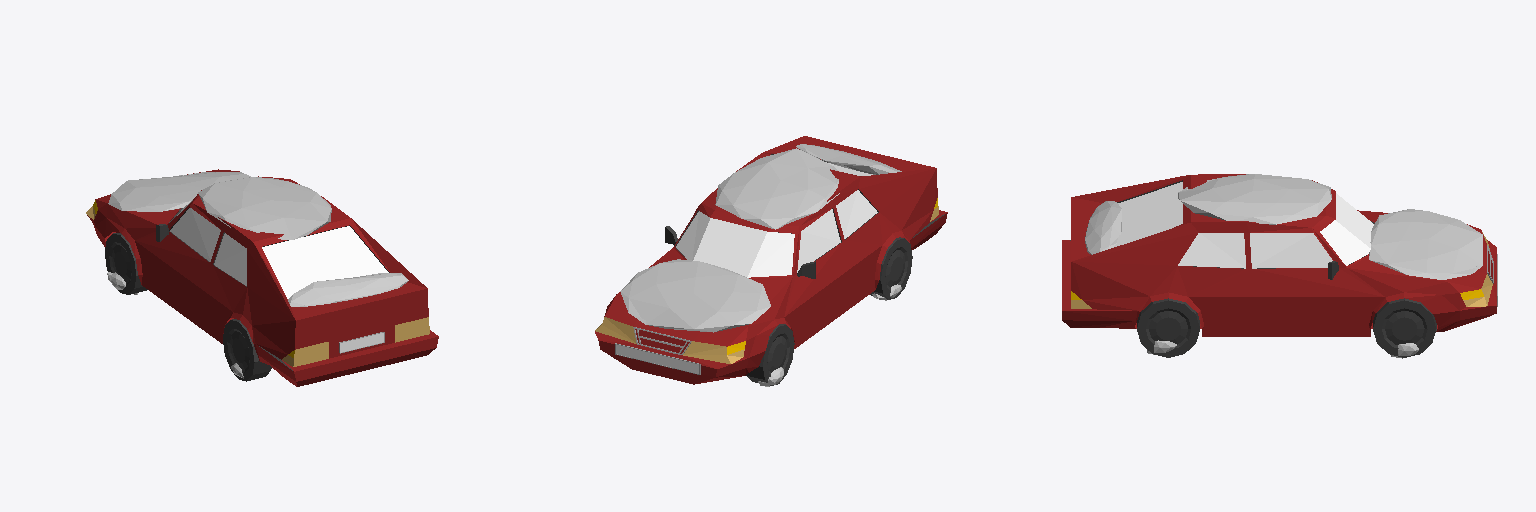
3 renders of one model, left to right at view 1: azimuth 30°, elevation 25°; view 2: azimuth 150°, elevation 25°; view 3: azimuth 270°, elevation 25°, orthographic.
Parts seen in each view (by area): view 1: Box012, Icosphere, Icosphere.001, Icosphere.002, Cylinder007, Cylinder008; view 2: Box012, Icosphere.001, Icosphere, Cylinder007, Cylinder008, Icosphere.002, Box015; view 3: Box012, Icosphere.001, Icosphere, Cylinder007, Cylinder008, Icosphere.002.
Boxes of the visible parts, x1,y1,x2,y2 form: Box012: [86, 169, 438, 386]; Icosphere: [198, 177, 331, 239]; Icosphere.001: [108, 172, 250, 211]; Icosphere.002: [288, 273, 408, 306]; Cylinder007: [223, 319, 271, 381]; Cylinder008: [105, 233, 147, 294]; Box012: [595, 136, 947, 384]; Icosphere.001: [620, 259, 770, 332]; Icosphere: [715, 148, 839, 229]; Cylinder007: [870, 237, 912, 299]; Cylinder008: [746, 324, 794, 385]; Icosphere.002: [796, 144, 901, 174]; Box015: [615, 343, 700, 374]; Box012: [1062, 174, 1496, 336]; Icosphere.001: [1369, 209, 1482, 279]; Icosphere: [1178, 174, 1331, 224]; Cylinder007: [1137, 298, 1199, 357]; Cylinder008: [1373, 298, 1436, 357]; Icosphere.002: [1085, 201, 1121, 254].
Size of the model in its own units: 2.16 by 1.77 by 5.2.
3 materials, 1 textured.